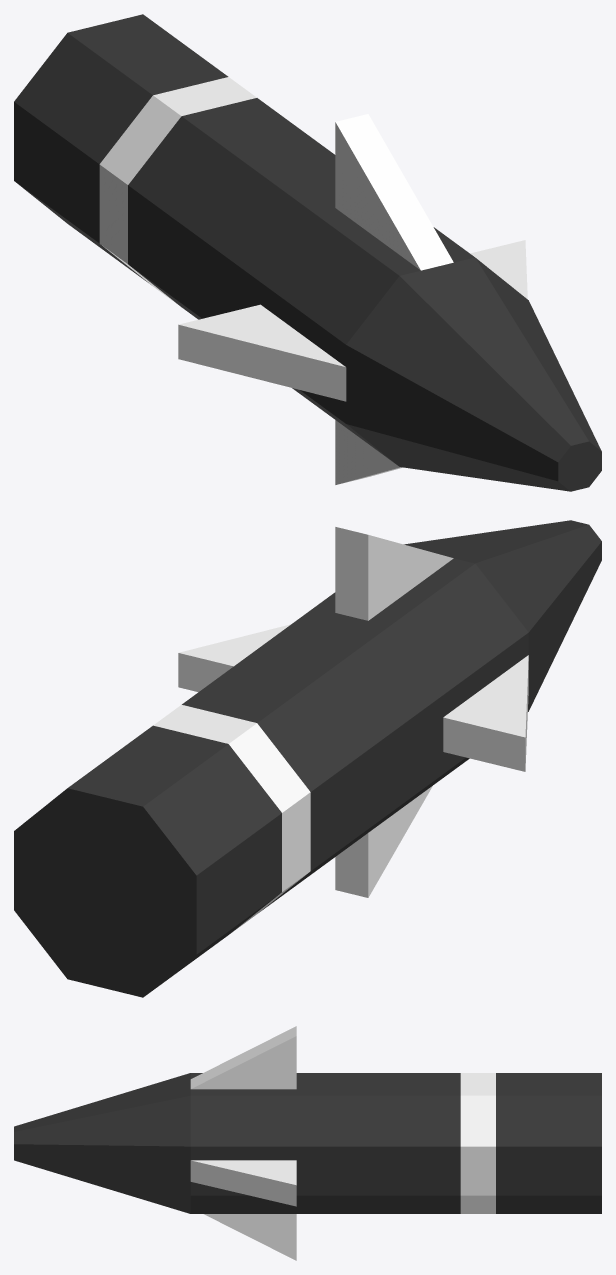
The model's file is Missile.fbx.
3 renders of one model, top to bottom at view 1: azimuth 30°, elevation 25°; view 2: azimuth 150°, elevation 25°; view 3: azimuth 270°, elevation 25°, orthographic. The views are drawn at different scales.
Visible parts, largest first — view 1: Missile; view 2: Missile; view 3: Missile.
Part boxes in pixels (x1=…): Missile: x1=14, y1=14, x2=601, y2=491; Missile: x1=14, y1=520, x2=601, y2=997; Missile: x1=14, y1=1026, x2=601, y2=1260.
Bounding box in the file's own units: 0.2108 × 0.2108 × 0.4994.
